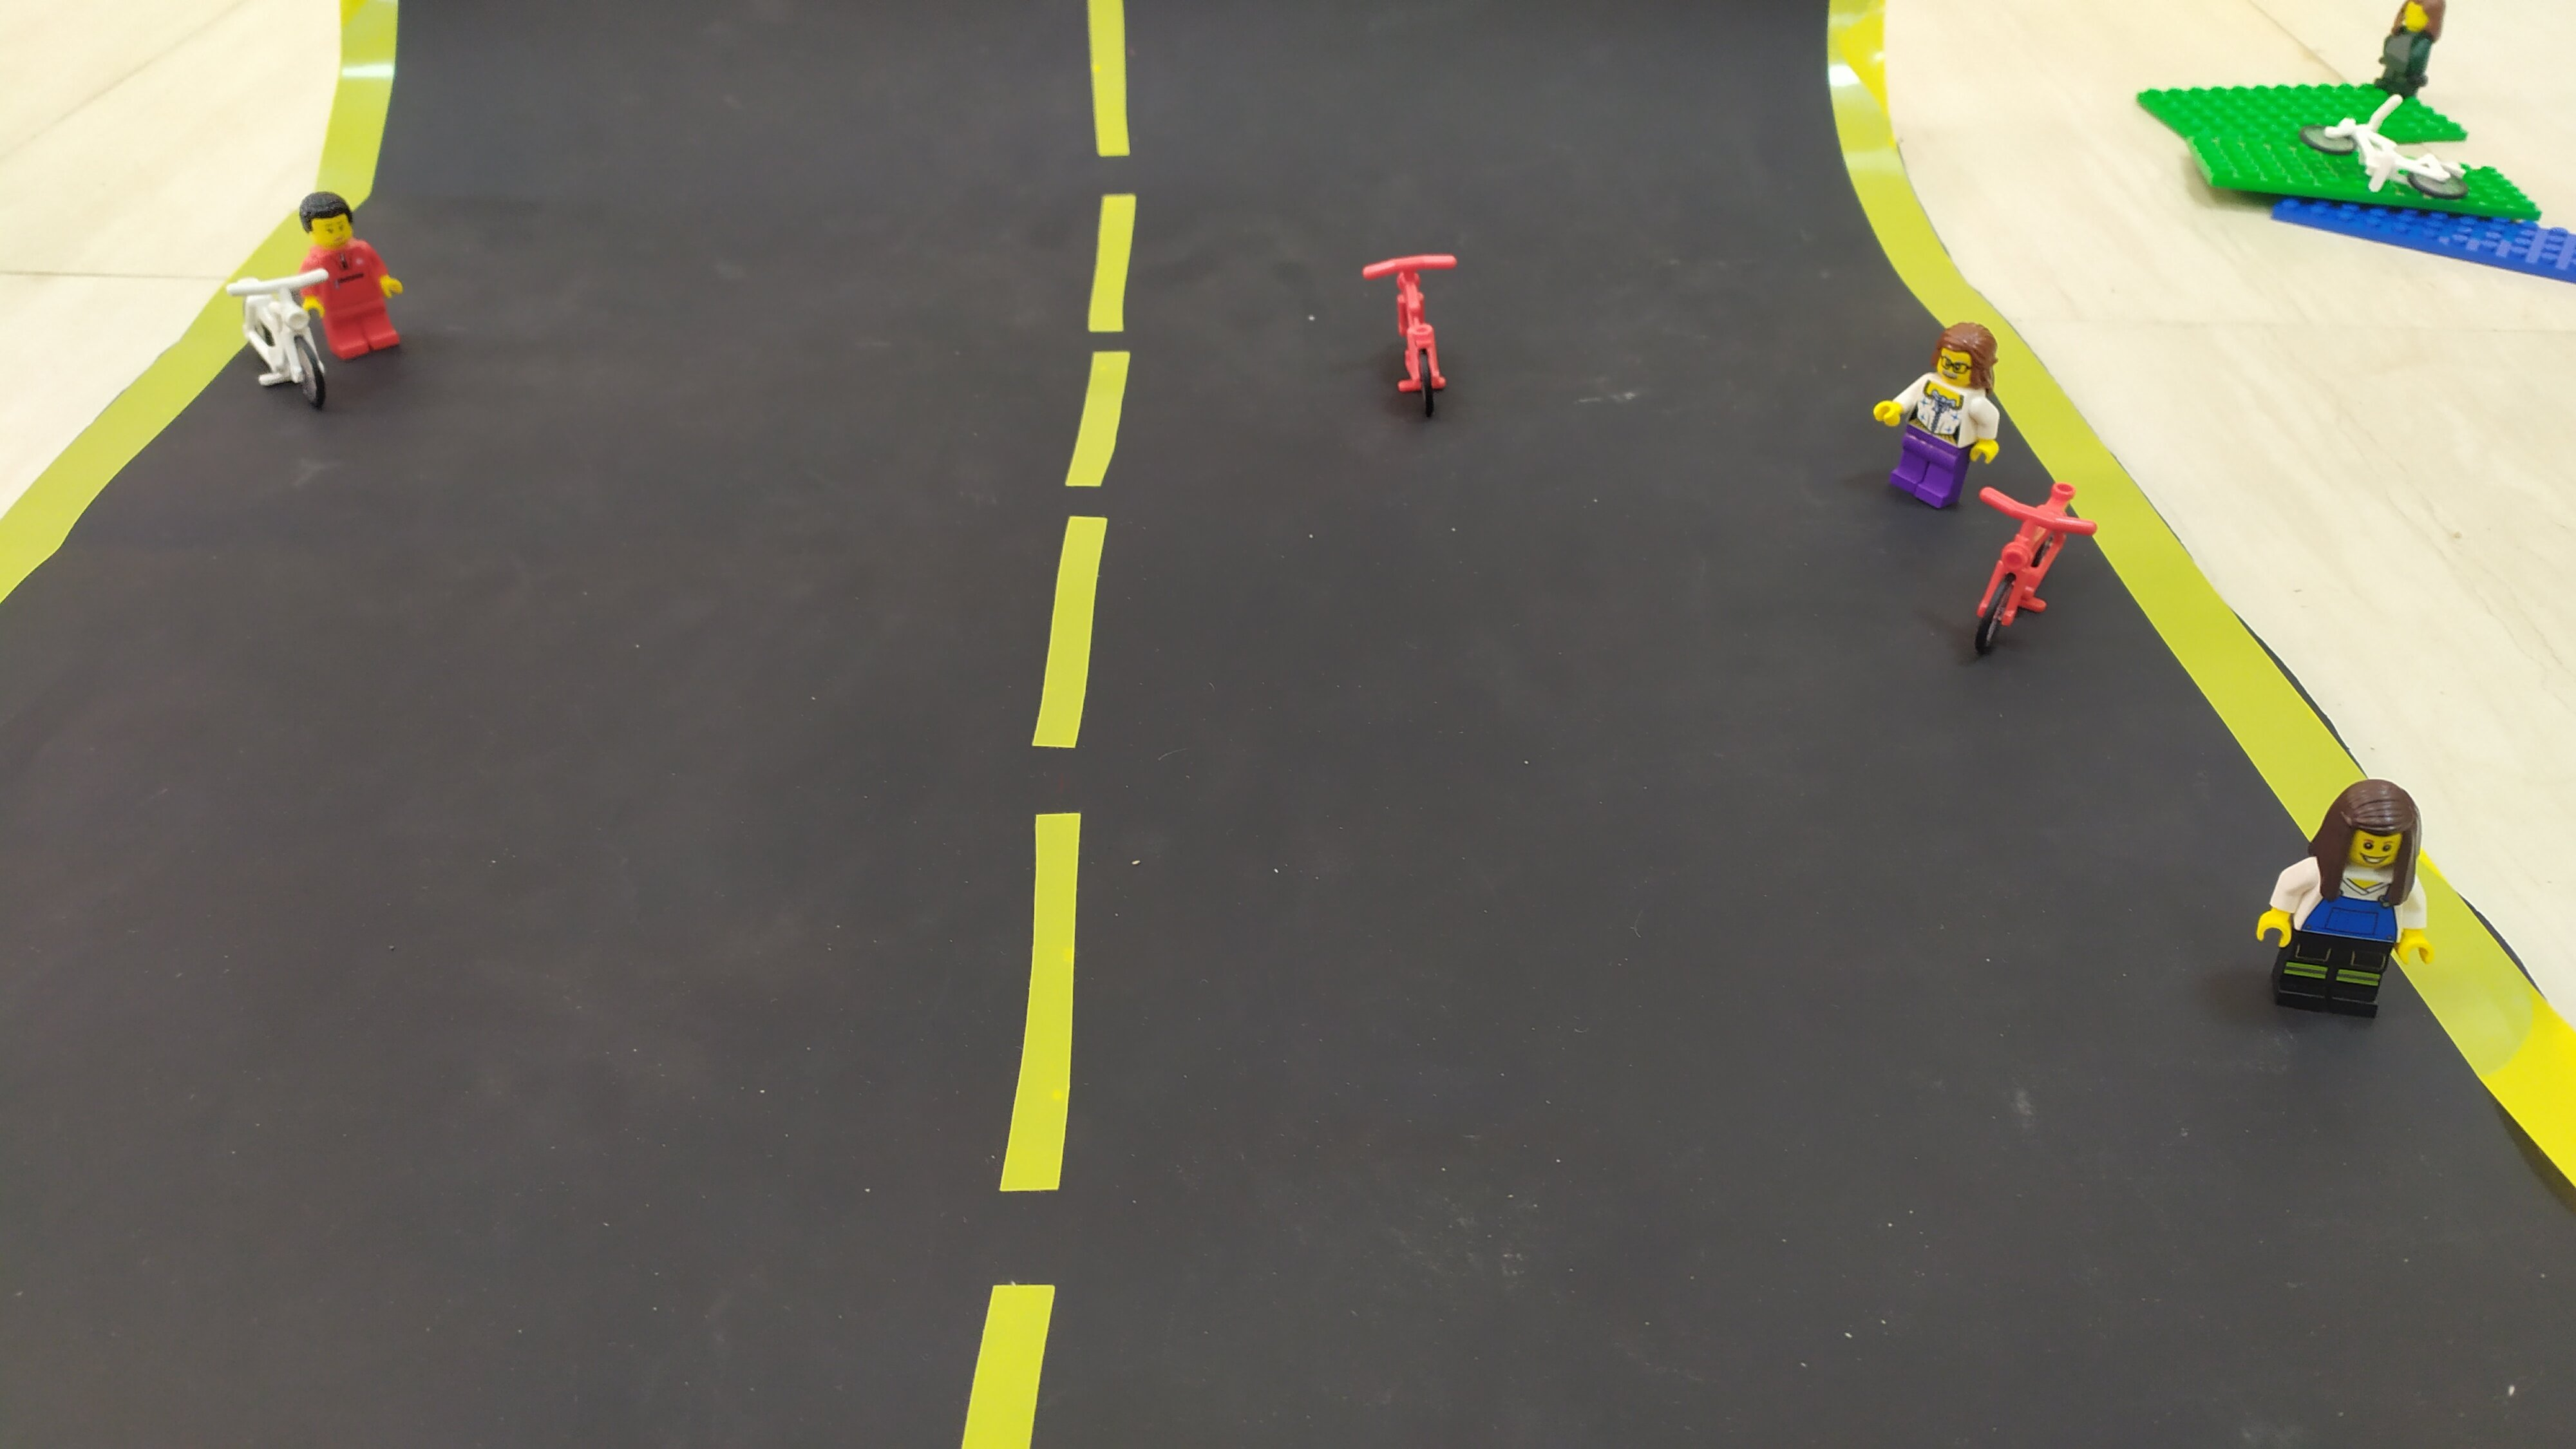person: (2212, 763, 2463, 1046), (1819, 345, 2038, 538), (254, 158, 428, 396)
